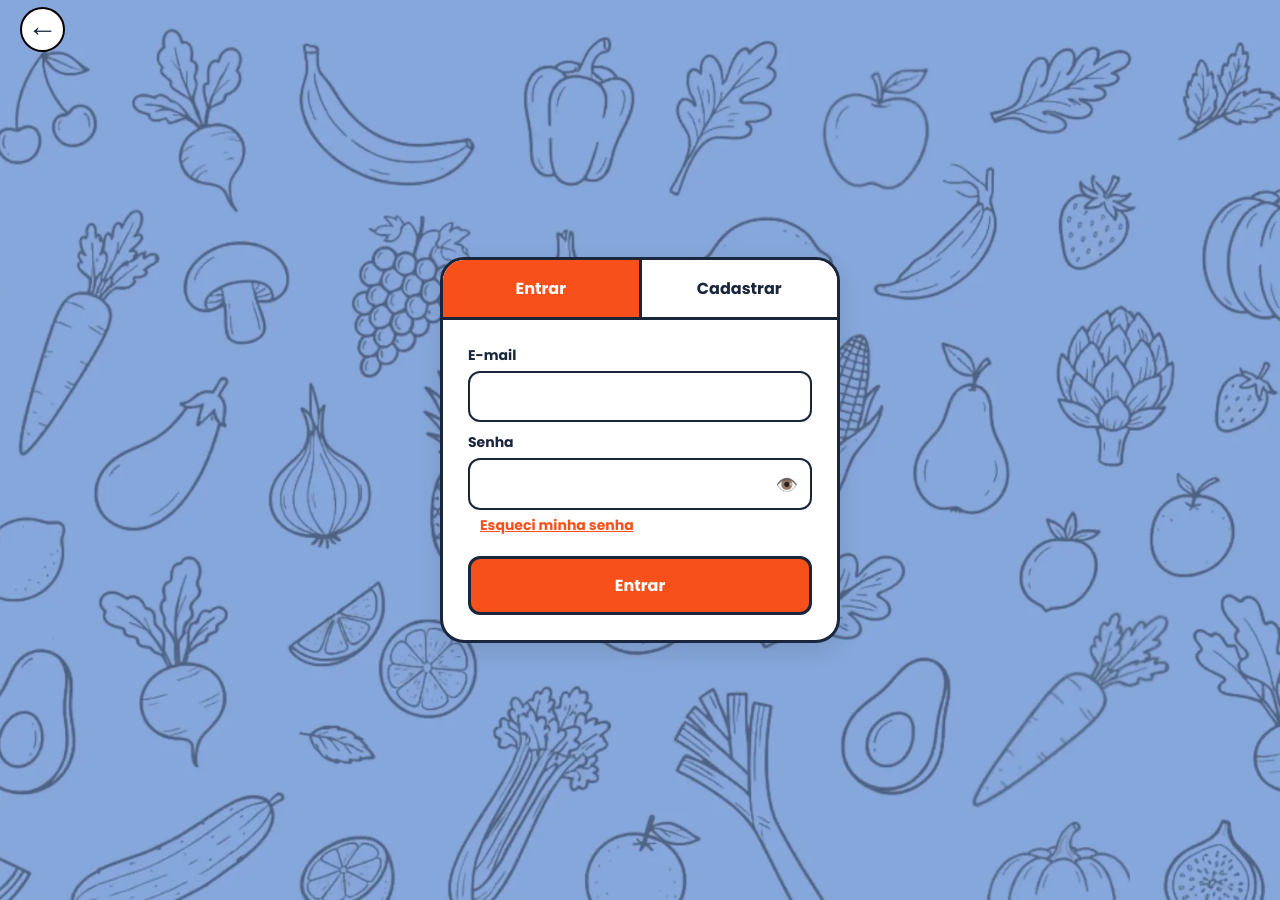
Test case: formulário real, com rede simulada › recuperação usa a nova prova retornada pelo servidor, não o código já consumido
Click the button "Esqueci minha senha" at (557, 526), box [480,515,634,536]
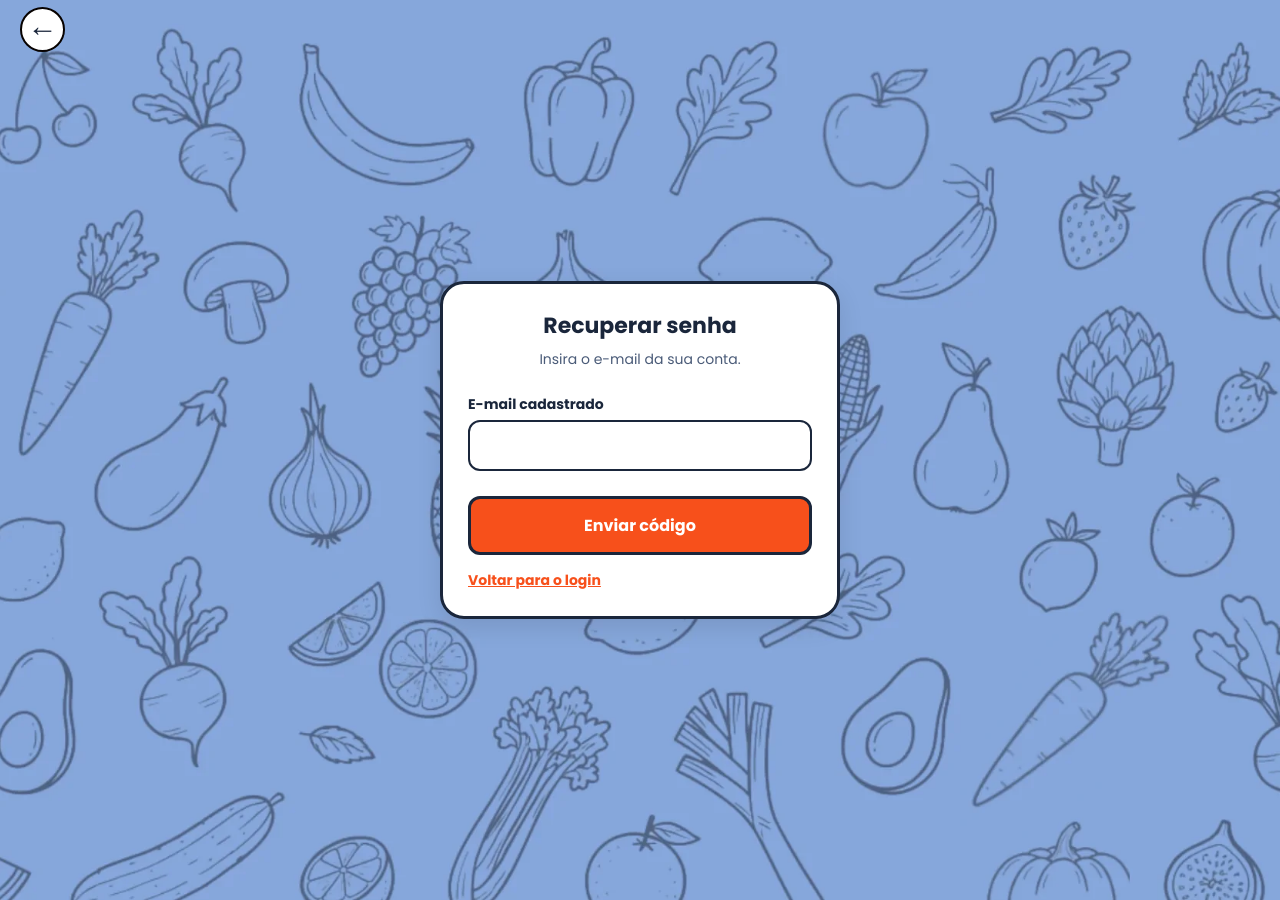
Type "teste@example.com" into the field labelled "E-mail cadastrado" at (640, 446), box [468,420,812,471]
Click the button "Enviar código" at (640, 526), box [468,496,812,555]
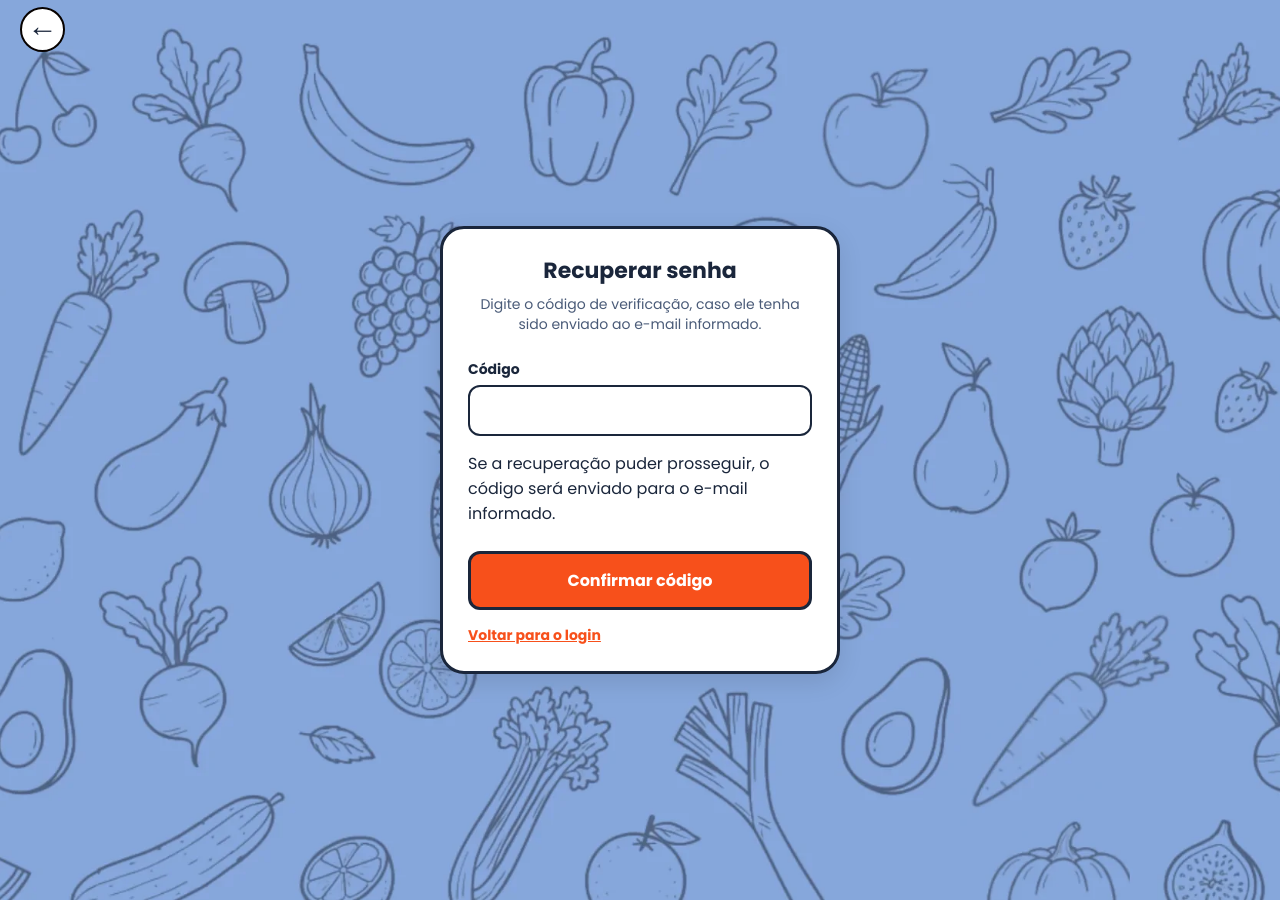
Result: the field labelled "Código" is shown
Type "1234" into the field labelled "Código" at (640, 411), box [468,385,812,436]
Click the button "Confirmar código" at (640, 581), box [468,551,812,610]
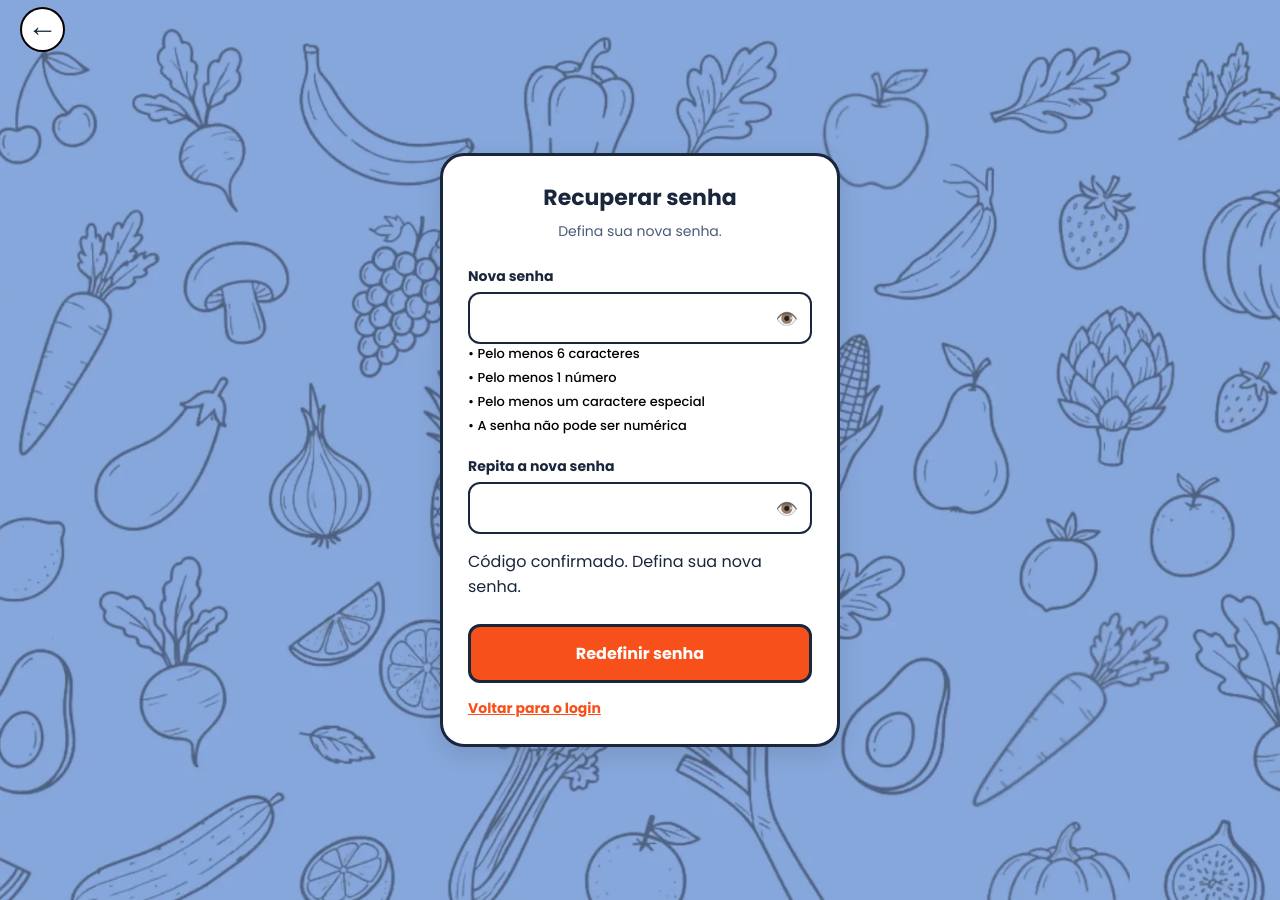
Result: the password field labelled "Nova senha" is shown
Type "Nova123!" into the password field labelled "Nova senha" at (640, 318), box [470,294,810,342]
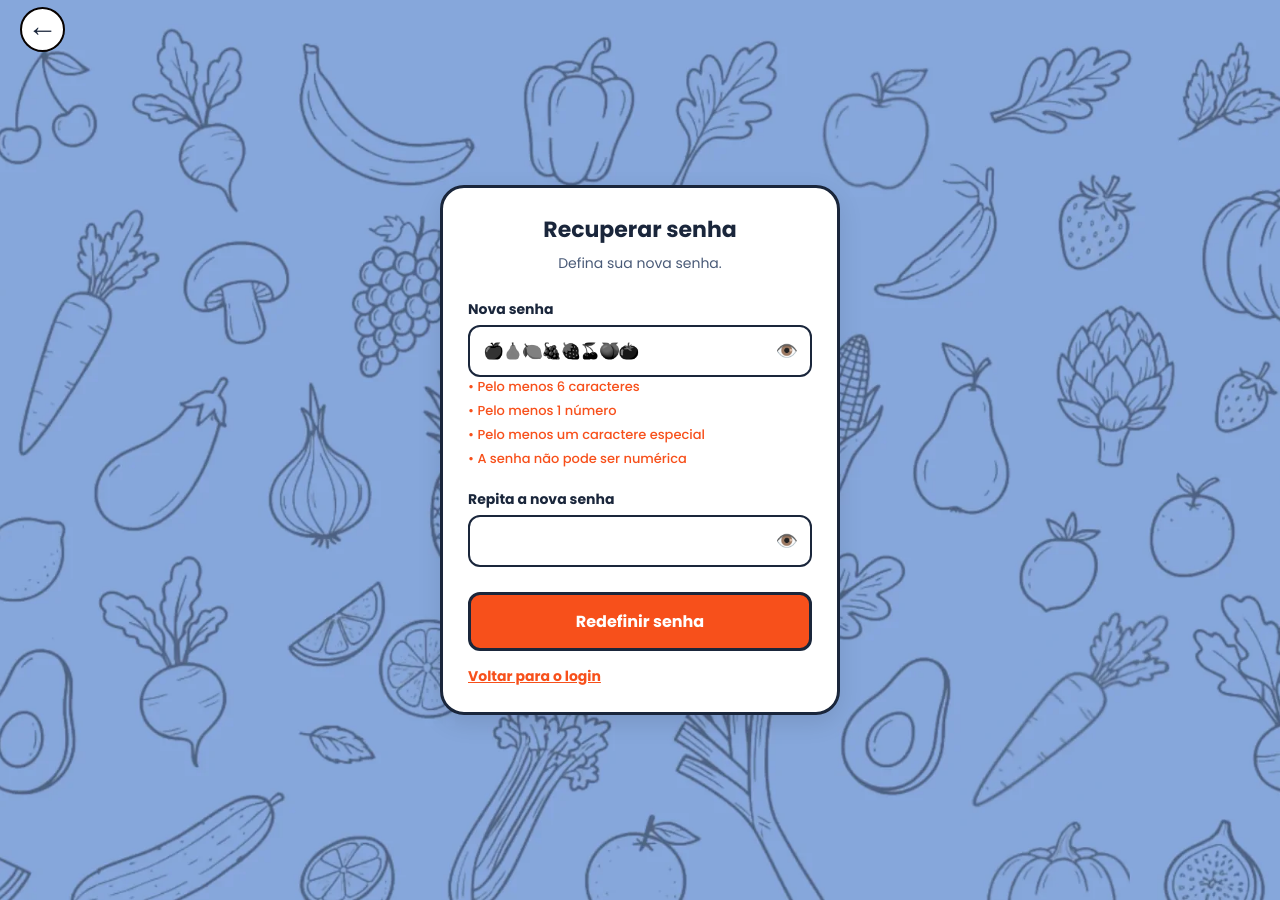
Type "Nova123!" into the password field labelled "Repita a nova senha" at (640, 541), box [470,517,810,565]
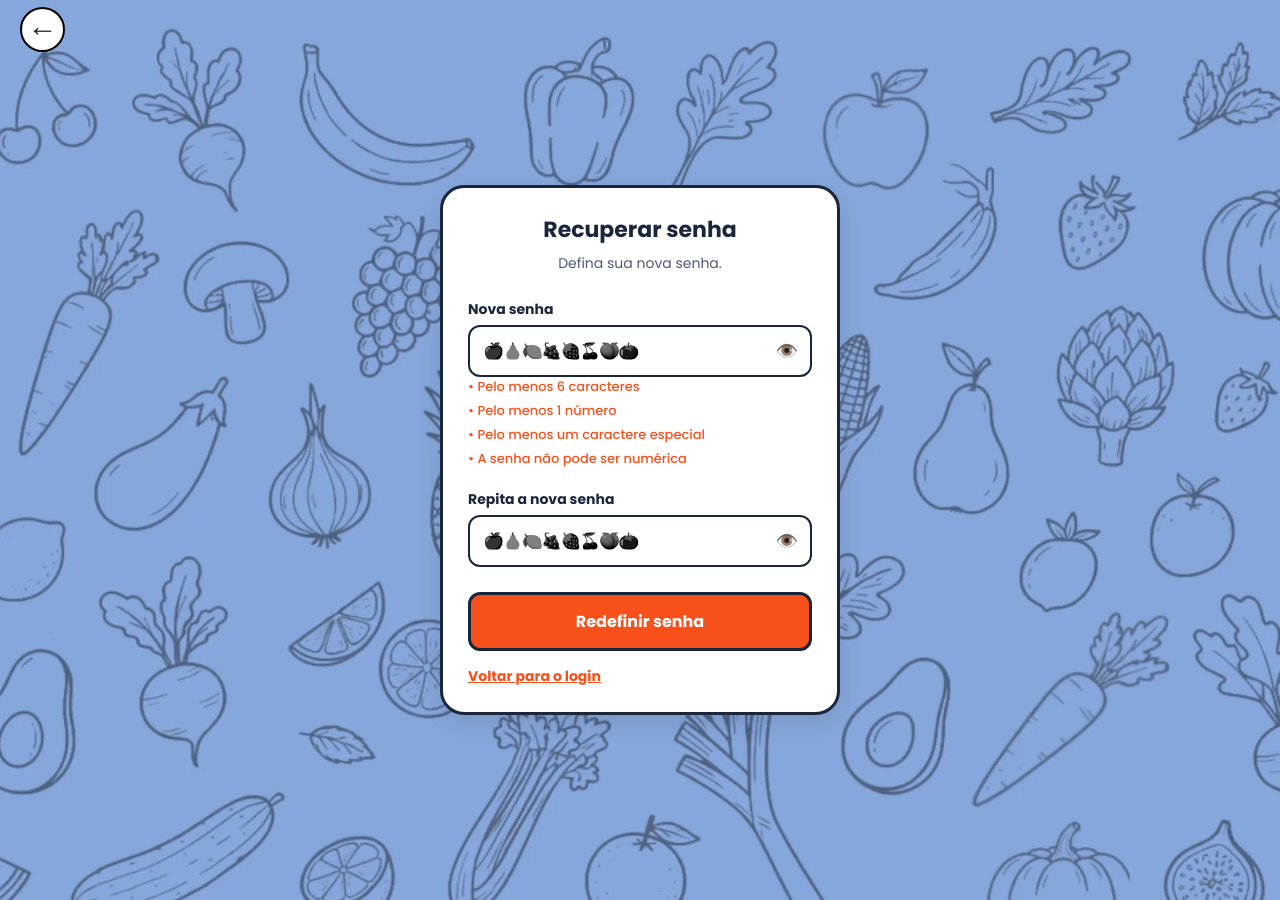
Click the button "Redefinir senha" at (640, 621), box [468,592,812,651]
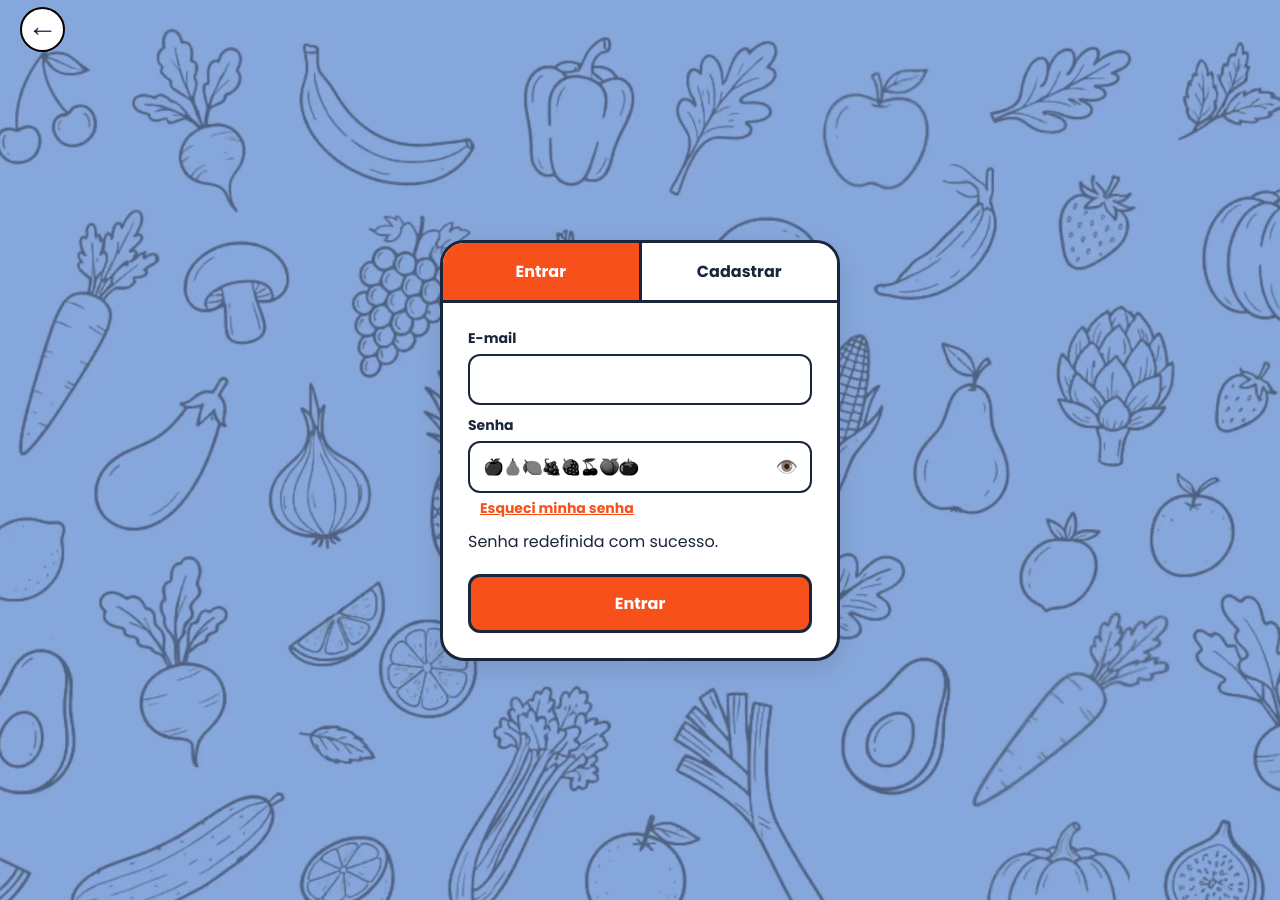
Result: the text "Senha redefinida com sucesso." is shown at [468,530,718,552]
